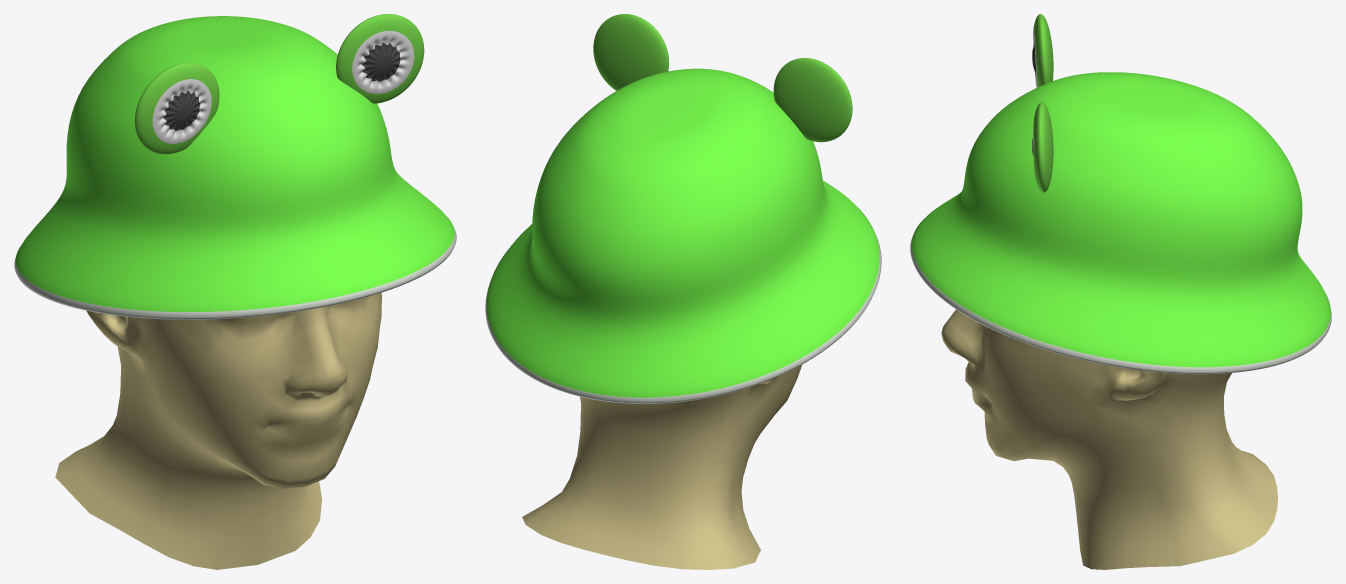
Rendered from Green Frog Bucket Hat by iayseozdemir.fbx.
3 renders of one model, left to right at view 1: azimuth 30°, elevation 25°; view 2: azimuth 150°, elevation 25°; view 3: azimuth 270°, elevation 25°, orthographic. The views are drawn at different scales.
Visible parts, largest first — view 1: hat, headOccluder_quad, Sphere.001; view 2: hat, headOccluder_quad, Sphere.001; view 3: hat, headOccluder_quad, Sphere.001.
Part boxes in pixels (x1,y1,x2,y2): hat: [14, 16, 456, 319]; headOccluder_quad: [55, 292, 381, 569]; Sphere.001: [134, 14, 424, 154]; hat: [485, 68, 881, 403]; headOccluder_quad: [522, 365, 801, 569]; Sphere.001: [593, 14, 852, 142]; hat: [910, 72, 1331, 374]; headOccluder_quad: [941, 309, 1277, 569]; Sphere.001: [1032, 14, 1053, 192].
Size of the model in its own units: 24.43 by 33.61 by 26.27.
